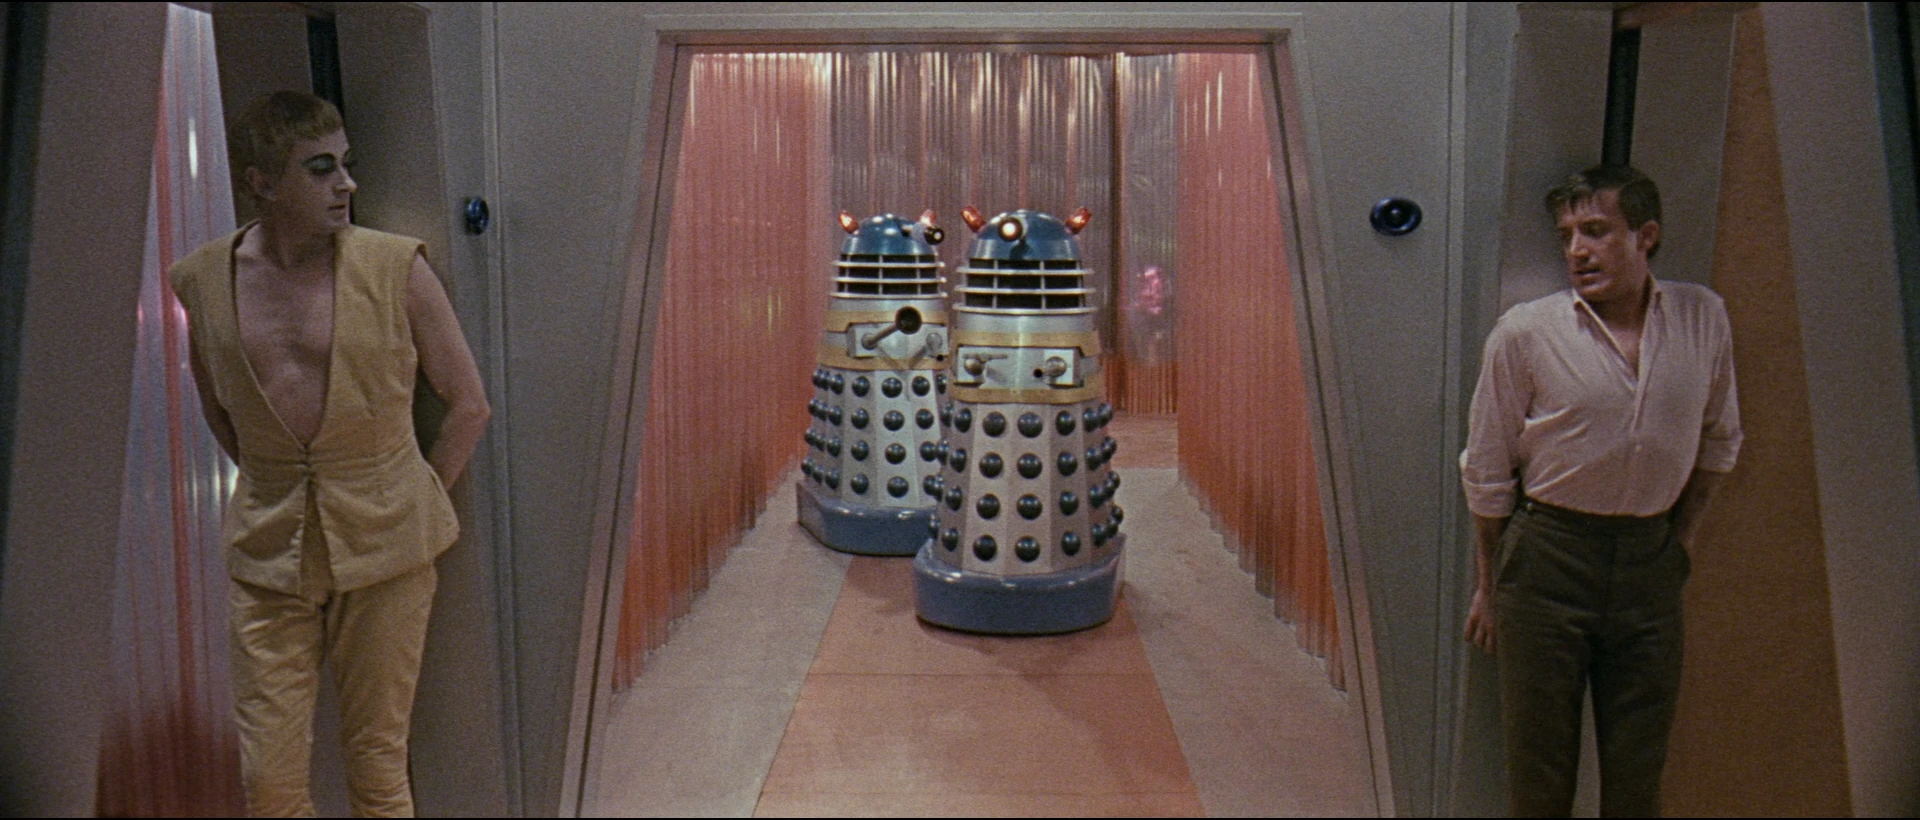Dalek: (909, 197, 1134, 625), (797, 195, 940, 553)
